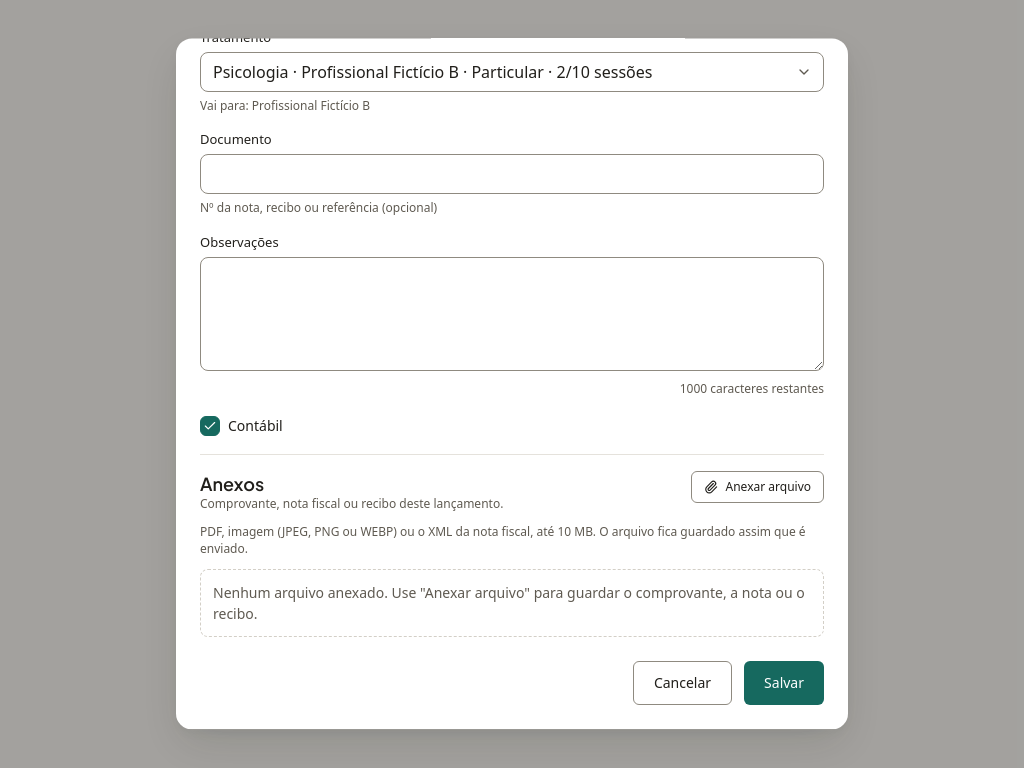
Scenario: Formulário de lançamento — o campo Tratamento nos quatro estados da lista › deve pousar no próprio campo a recusa do servidor ao vínculo
The image size is (1024, 768).
(page scrolled)
Click the button "Salvar": (784, 683) [744,661,824,705]
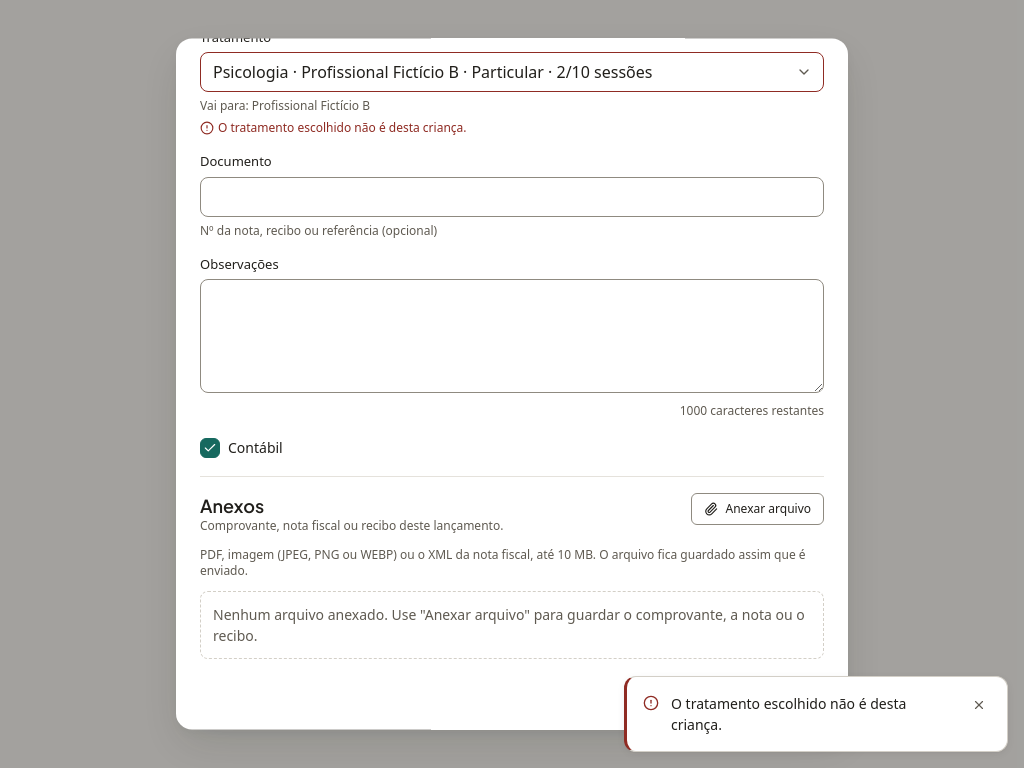
Expected: the text "O tratamento escolhido não é desta criança." is shown, [200,120,466,137]
